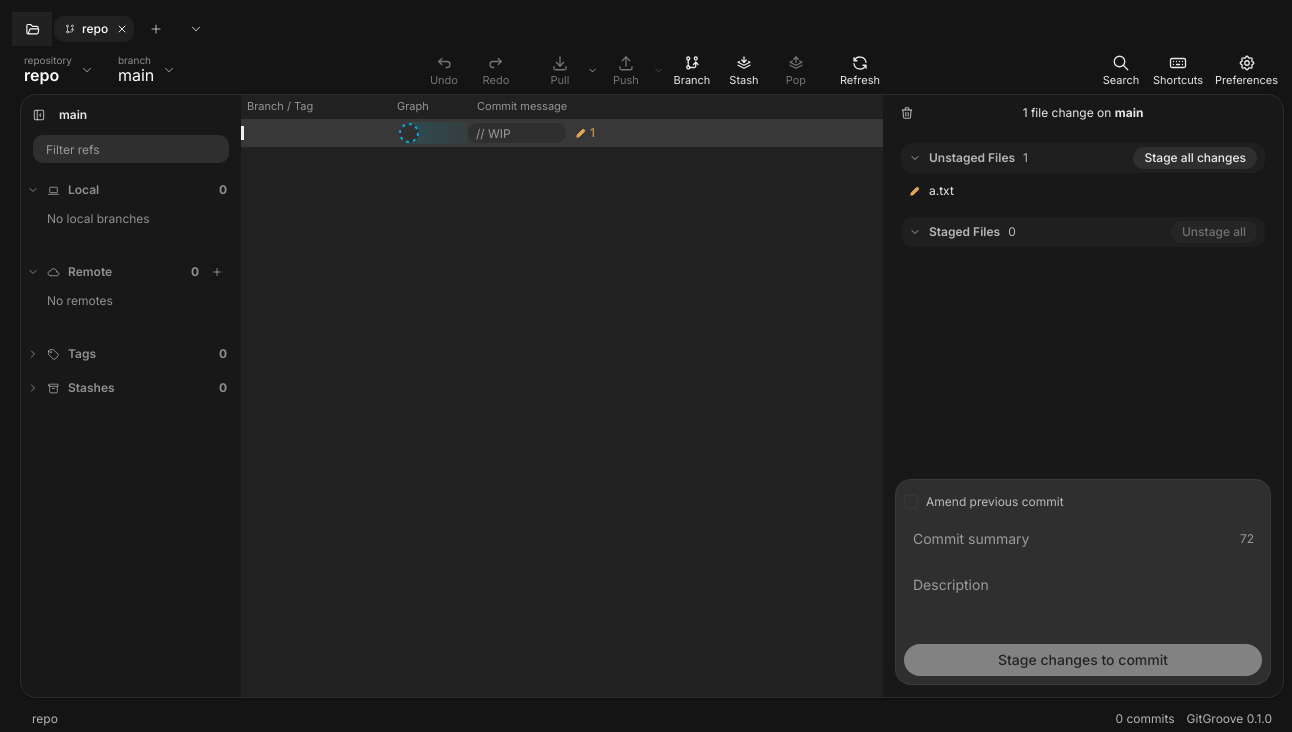
it: App keeps the status bar with the action that still owns it (GC-084) › leaves the spinner up until the later of two overlapping actions finishes
Step 1. Click the button titled "Refresh" → (860, 70), box [834,50,886,90]
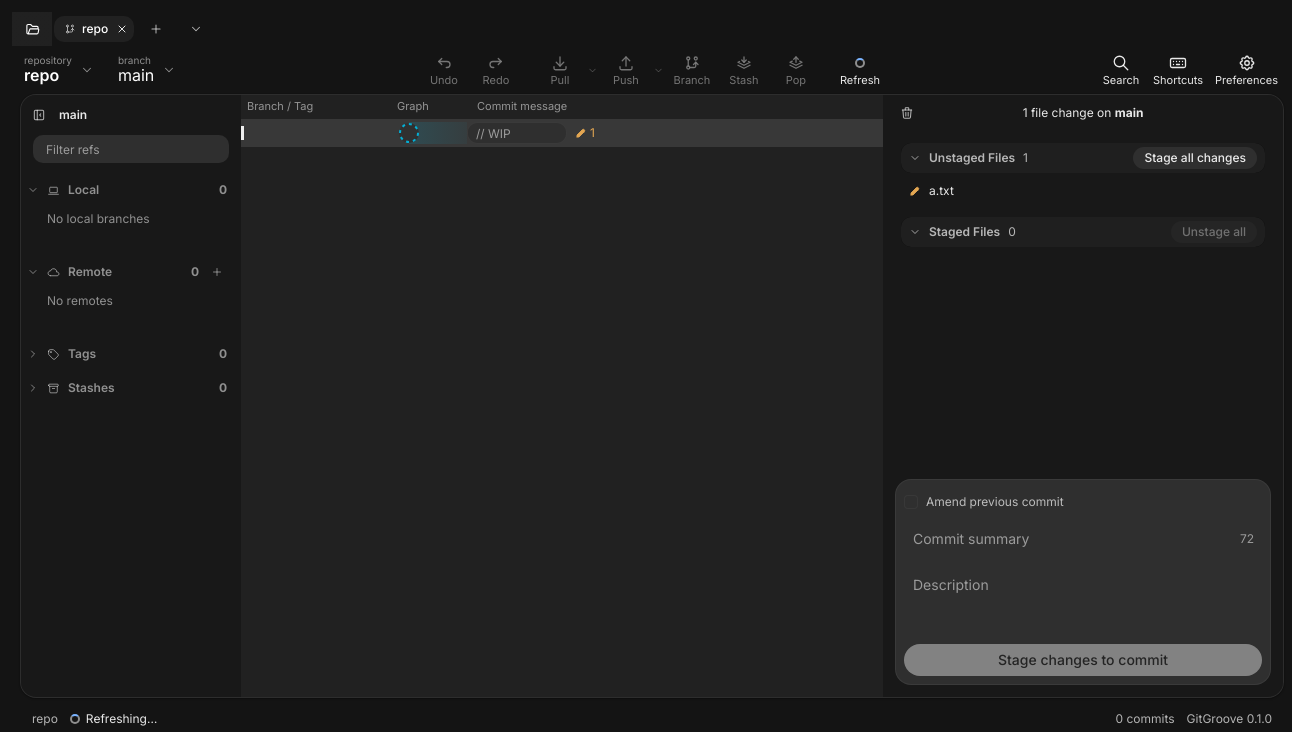
Step 2. Click the button "Stage all changes" → (1195, 158), box [1133,147,1257,169]
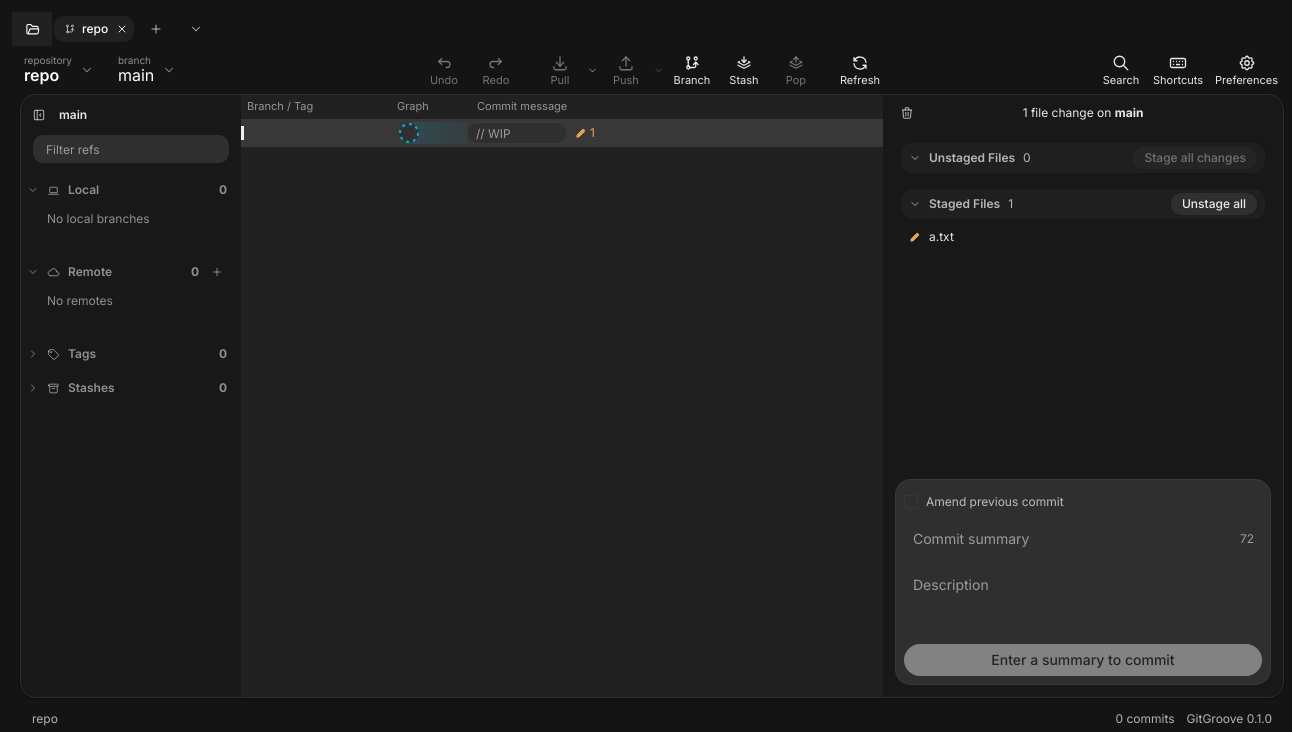
Expected: the element with class "busy" is gone
